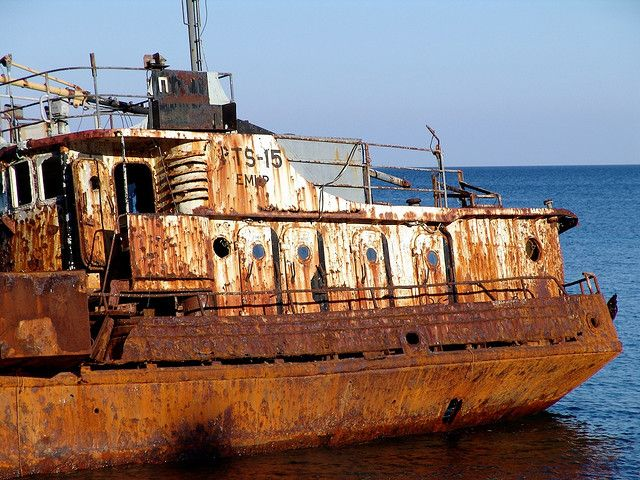rust: (5, 384, 477, 436), (117, 311, 617, 360), (4, 274, 92, 357), (130, 220, 211, 282), (500, 354, 574, 409)
